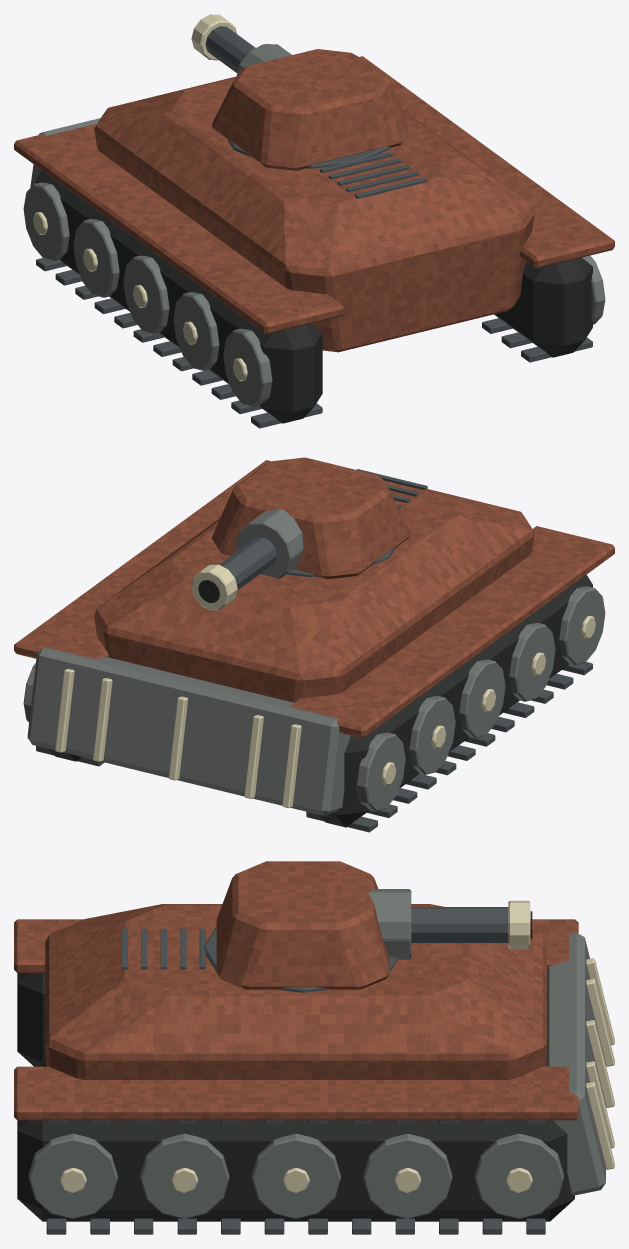
3 views of the same model, one above another, from view 1: azimuth 30°, elevation 25°; view 2: azimuth 150°, elevation 25°; view 3: azimuth 270°, elevation 25° (orthographic). The views are drawn at different scales.
Visible parts, largest first — view 1: ST2-E02_Mesh, Track_L_Mesh, TurretYaw_Mesh, Track_R_Mesh, BarrelRecoil_Mesh; view 2: ST2-E02_Mesh, Track_L_Mesh, TurretYaw_Mesh, BarrelRecoil_Mesh, Track_R_Mesh; view 3: ST2-E02_Mesh, Track_R_Mesh, TurretYaw_Mesh, BarrelRecoil_Mesh, Track_L_Mesh.
Part boxes in pixels (bbox=[...]): ST2-E02_Mesh: bbox=[14, 56, 614, 352]; Track_L_Mesh: bbox=[23, 171, 322, 428]; TurretYaw_Mesh: bbox=[212, 49, 410, 170]; Track_R_Mesh: bbox=[482, 255, 605, 362]; BarrelRecoil_Mesh: bbox=[191, 14, 291, 75]; ST2-E02_Mesh: bbox=[14, 460, 614, 815]; Track_L_Mesh: bbox=[306, 575, 605, 832]; TurretYaw_Mesh: bbox=[211, 457, 410, 579]; BarrelRecoil_Mesh: bbox=[191, 508, 303, 610]; Track_R_Mesh: bbox=[23, 663, 104, 766]; ST2-E02_Mesh: bbox=[14, 904, 614, 1195]; Track_R_Mesh: bbox=[17, 1120, 574, 1234]; TurretYaw_Mesh: bbox=[203, 861, 397, 992]; BarrelRecoil_Mesh: bbox=[368, 889, 532, 959]; Track_L_Mesh: bbox=[17, 973, 46, 1066].
Bounding box in the file's own units: 3.26 × 1.99 × 4.31.
